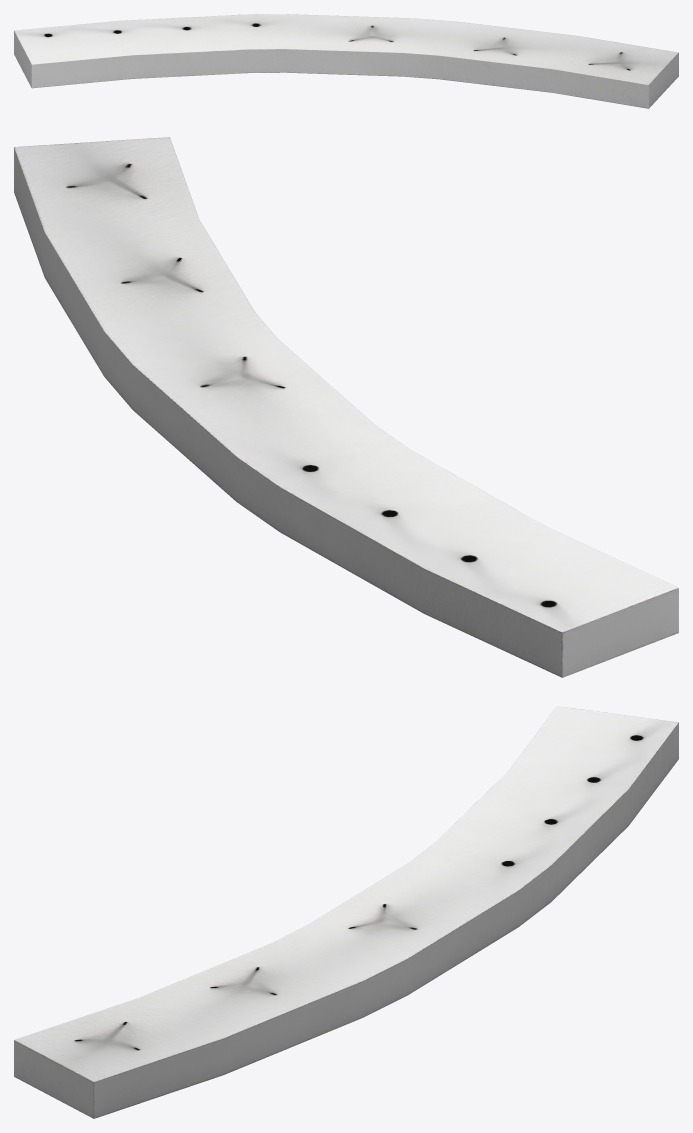
The model's file is DressPodiumn (4, 6.3, 0).glb.
The picture shows the model from 3 angles, top to bottom: view 1: azimuth 30°, elevation 25°; view 2: azimuth 150°, elevation 25°; view 3: azimuth 270°, elevation 25°; orthographic projection. The views are drawn at different scales.
Visible parts, largest first — view 1: Space.003; view 2: Space.003; view 3: Space.003.
Part boxes in pixels (<box>): Space.003: <box>14,14,678,108</box>; Space.003: <box>14,137,678,677</box>; Space.003: <box>14,706,678,1118</box>.
Size of the model in its own units: 6.6 by 0.3 by 4.93.
Materials: 1 (1 with a texture image).
